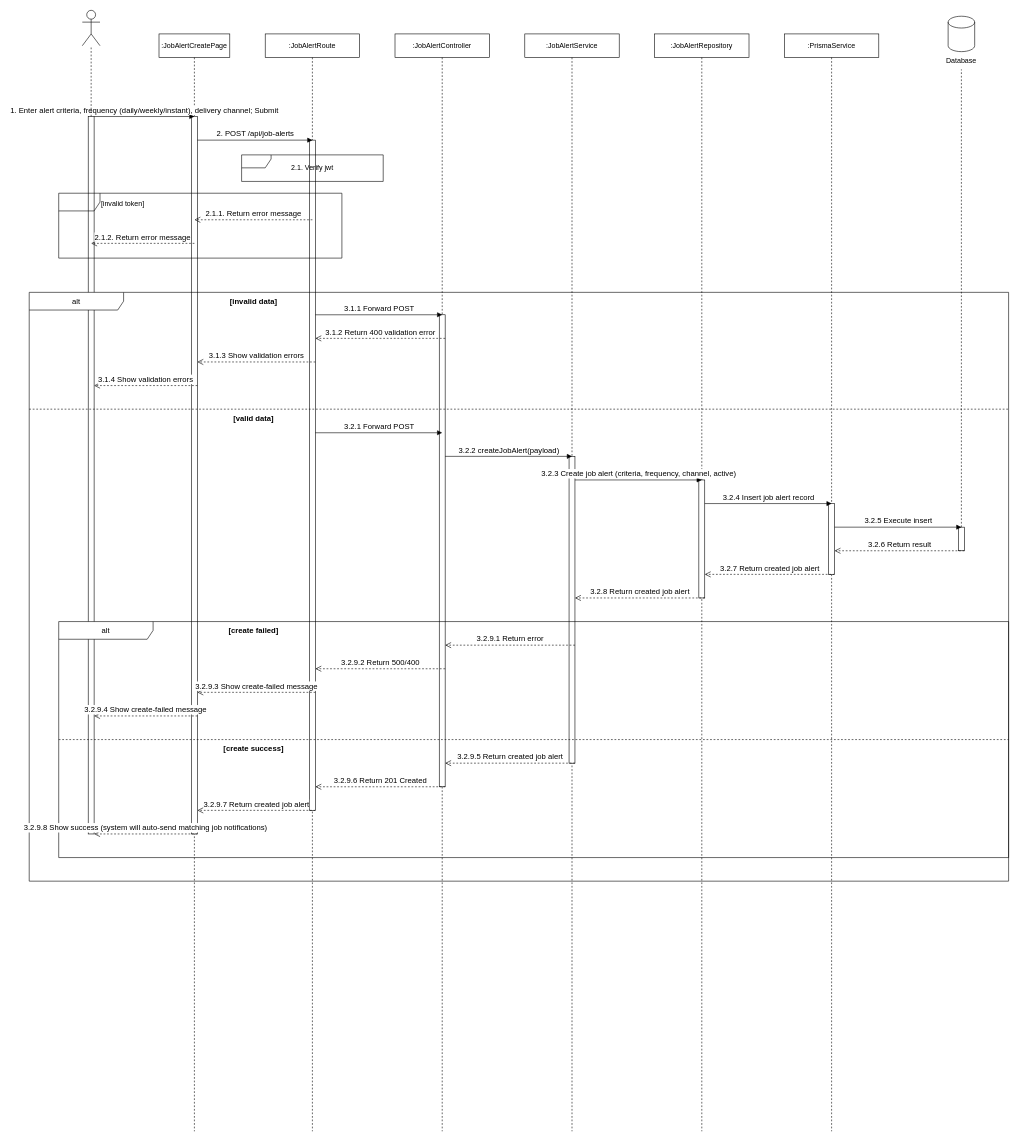
This 1020x1142 diagram has some shape labels left out. The shapes that lost their labels are listed below. From the top down, each one's box as (x1, y1, x2, y2) in pixels, then its label:
(82, 10, 100, 46): Freelancer
(241, 154, 383, 181): ref
(58, 193, 342, 258): opt
